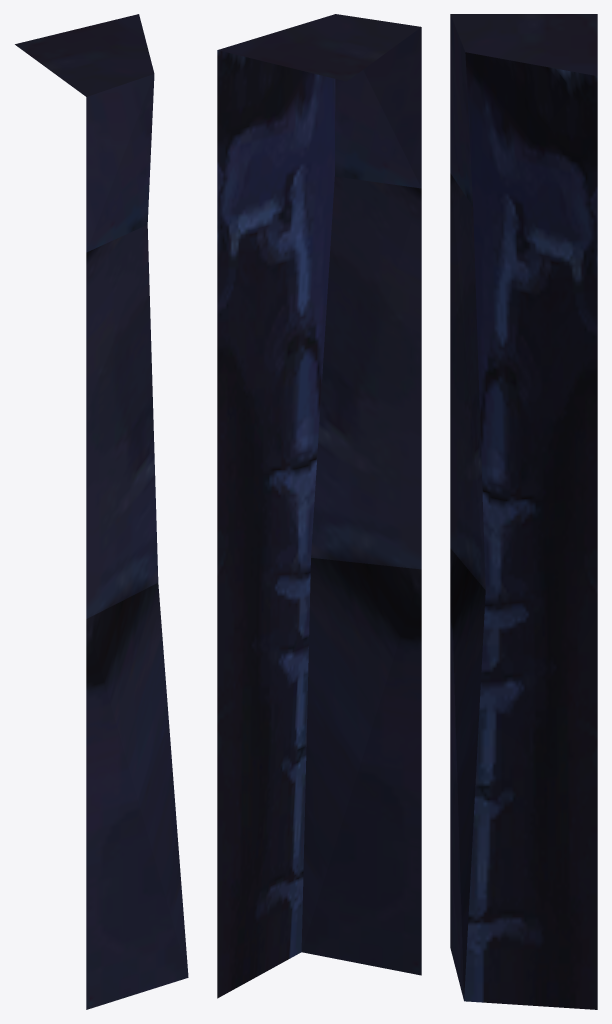
Rendered from palace_half_convex_04.fbx.
3 views of the same model, side by side, from view 1: azimuth 30°, elevation 25°; view 2: azimuth 150°, elevation 25°; view 3: azimuth 270°, elevation 25° (orthographic). The views are drawn at different scales.
Parts seen in each view (by area): view 1: palace_half_convex_04-0; view 2: palace_half_convex_04-0; view 3: palace_half_convex_04-0.
Boxes of the visible parts, left/top/right/bottom form: palace_half_convex_04-0: left=15, top=14, right=188, bottom=1009; palace_half_convex_04-0: left=217, top=14, right=421, bottom=998; palace_half_convex_04-0: left=450, top=14, right=597, bottom=1009.
Bounding box in the file's own units: 0.393 × 2.78 × 0.393.
